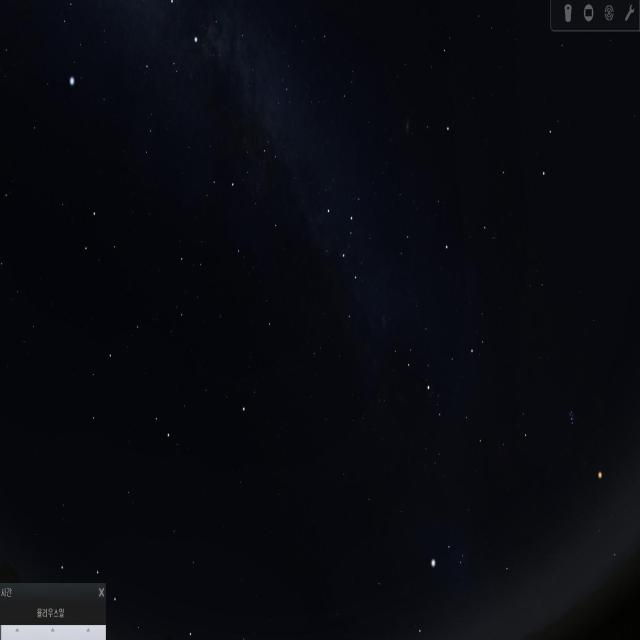cassiopeia: (316, 181, 372, 339)
pleiades: (562, 395, 578, 438)
